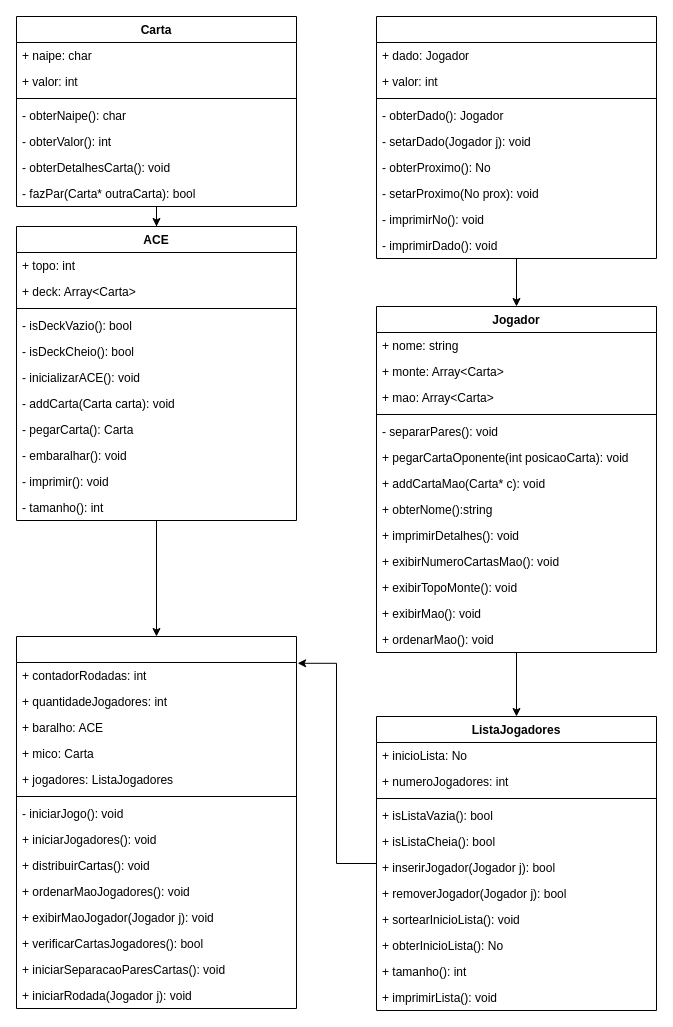
Some shapes in this 673 by 1027 pixel diagram are drawn without their labels. The box of each missing label's shape, as (x1, y1, x2, y2) in pixels:
No: (376, 16, 656, 258)
Simulador: (16, 636, 296, 1008)
